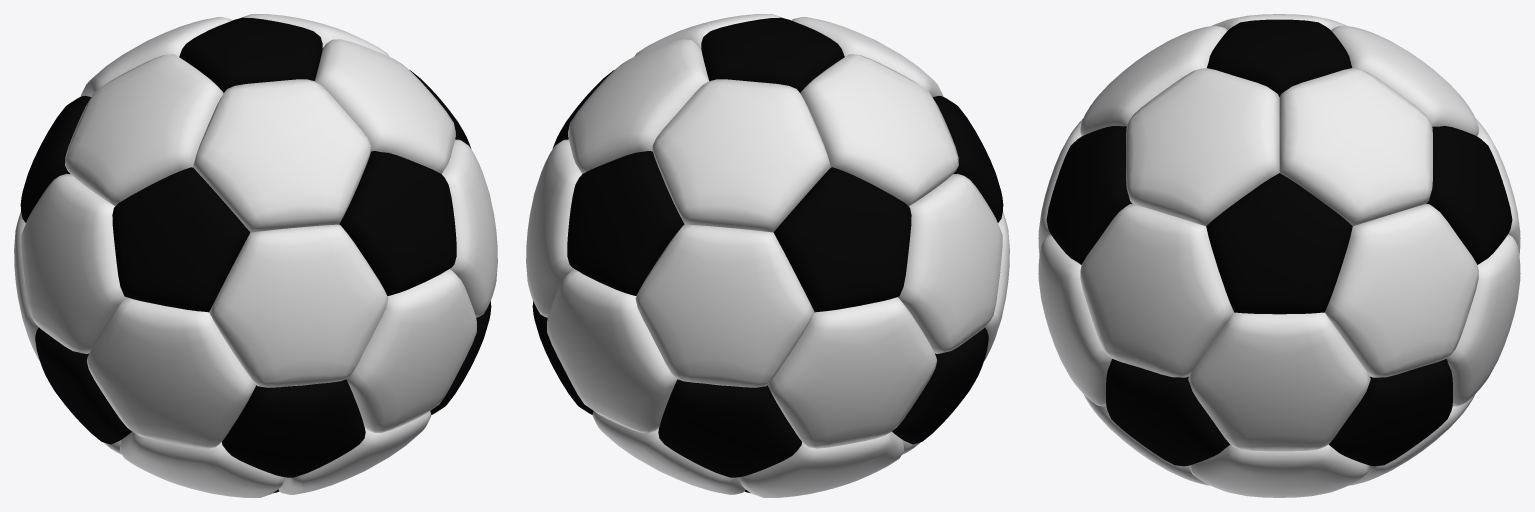
The model's file is football.glb.
3 renders of one model, left to right at view 1: azimuth 30°, elevation 25°; view 2: azimuth 150°, elevation 25°; view 3: azimuth 270°, elevation 25°, orthographic.
Parts seen in each view (by area): view 1: Icosphere.001_0; view 2: Icosphere.001_0; view 3: Icosphere.001_0.
Boxes of the visible parts, left/top/right/bottom form: Icosphere.001_0: left=14, top=14, right=497, bottom=497; Icosphere.001_0: left=526, top=14, right=1009, bottom=497; Icosphere.001_0: left=1038, top=14, right=1520, bottom=497.
Size of the model in its own units: 1.87 by 1.88 by 1.87.
Materials: 1 (1 with a texture image).
